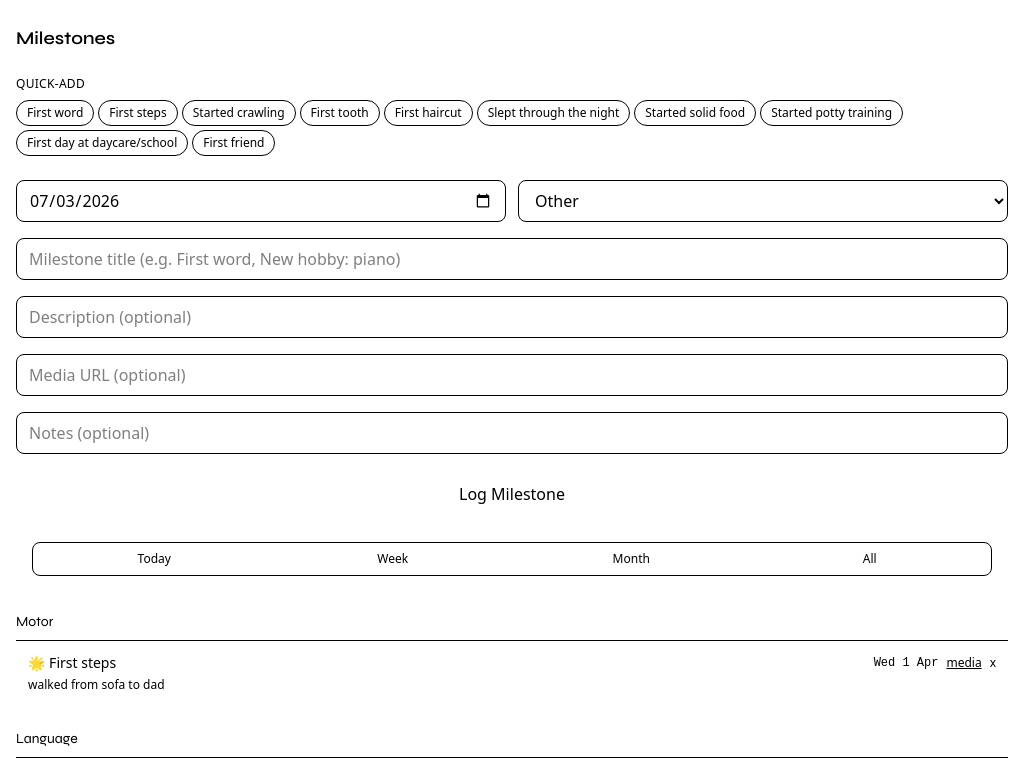
MilestonesLog — form behavior › template chip click prefills title and category
The image size is (1024, 758).
What coordinates should you click on to do the following:
click the button "First word"
I would click on:
 (55, 113)
Its box is [16,100,94,126].
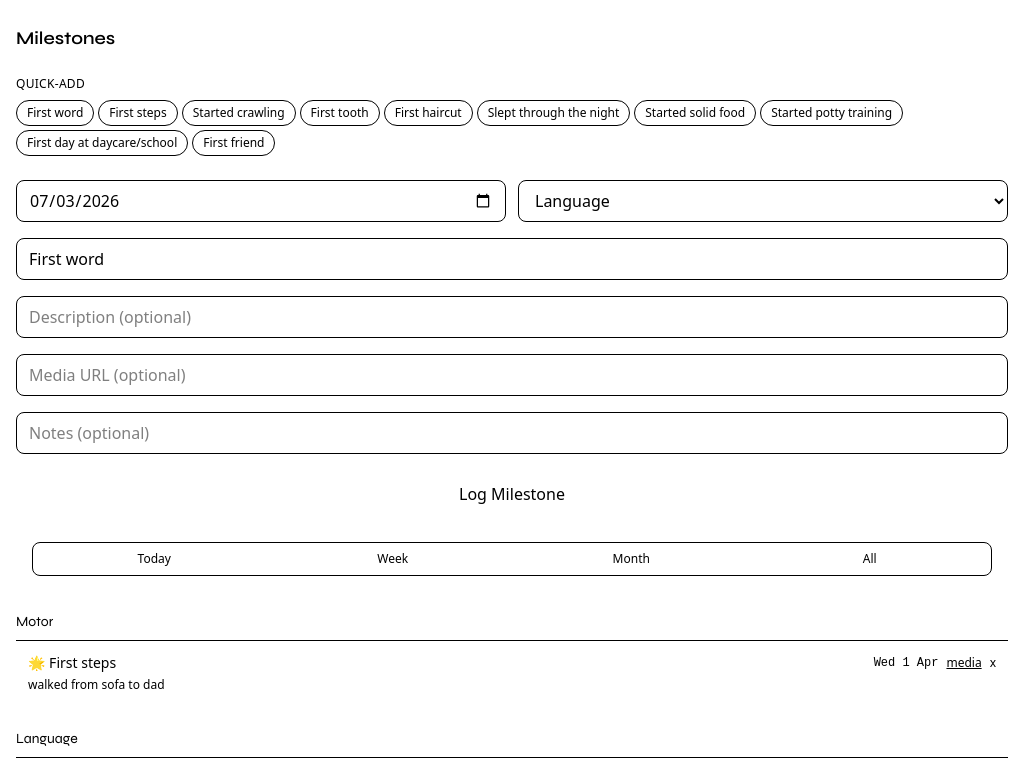
Expected: the field with placeholder "Milestone title (e.g. First word, New hobby: piano)" holds "First word", [16,238,1008,280]
